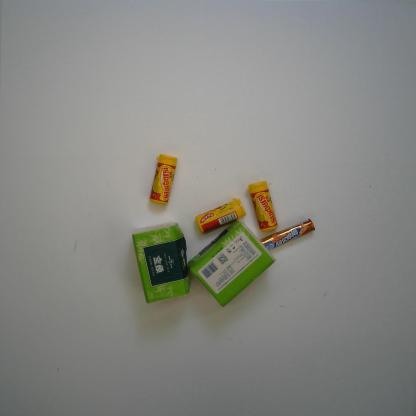Candy: (255, 218, 316, 254), (195, 196, 247, 235), (245, 180, 279, 234), (147, 151, 178, 207)
Tissue: (186, 219, 277, 310), (131, 219, 194, 307)
